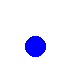circle: (25, 36, 45, 56)
